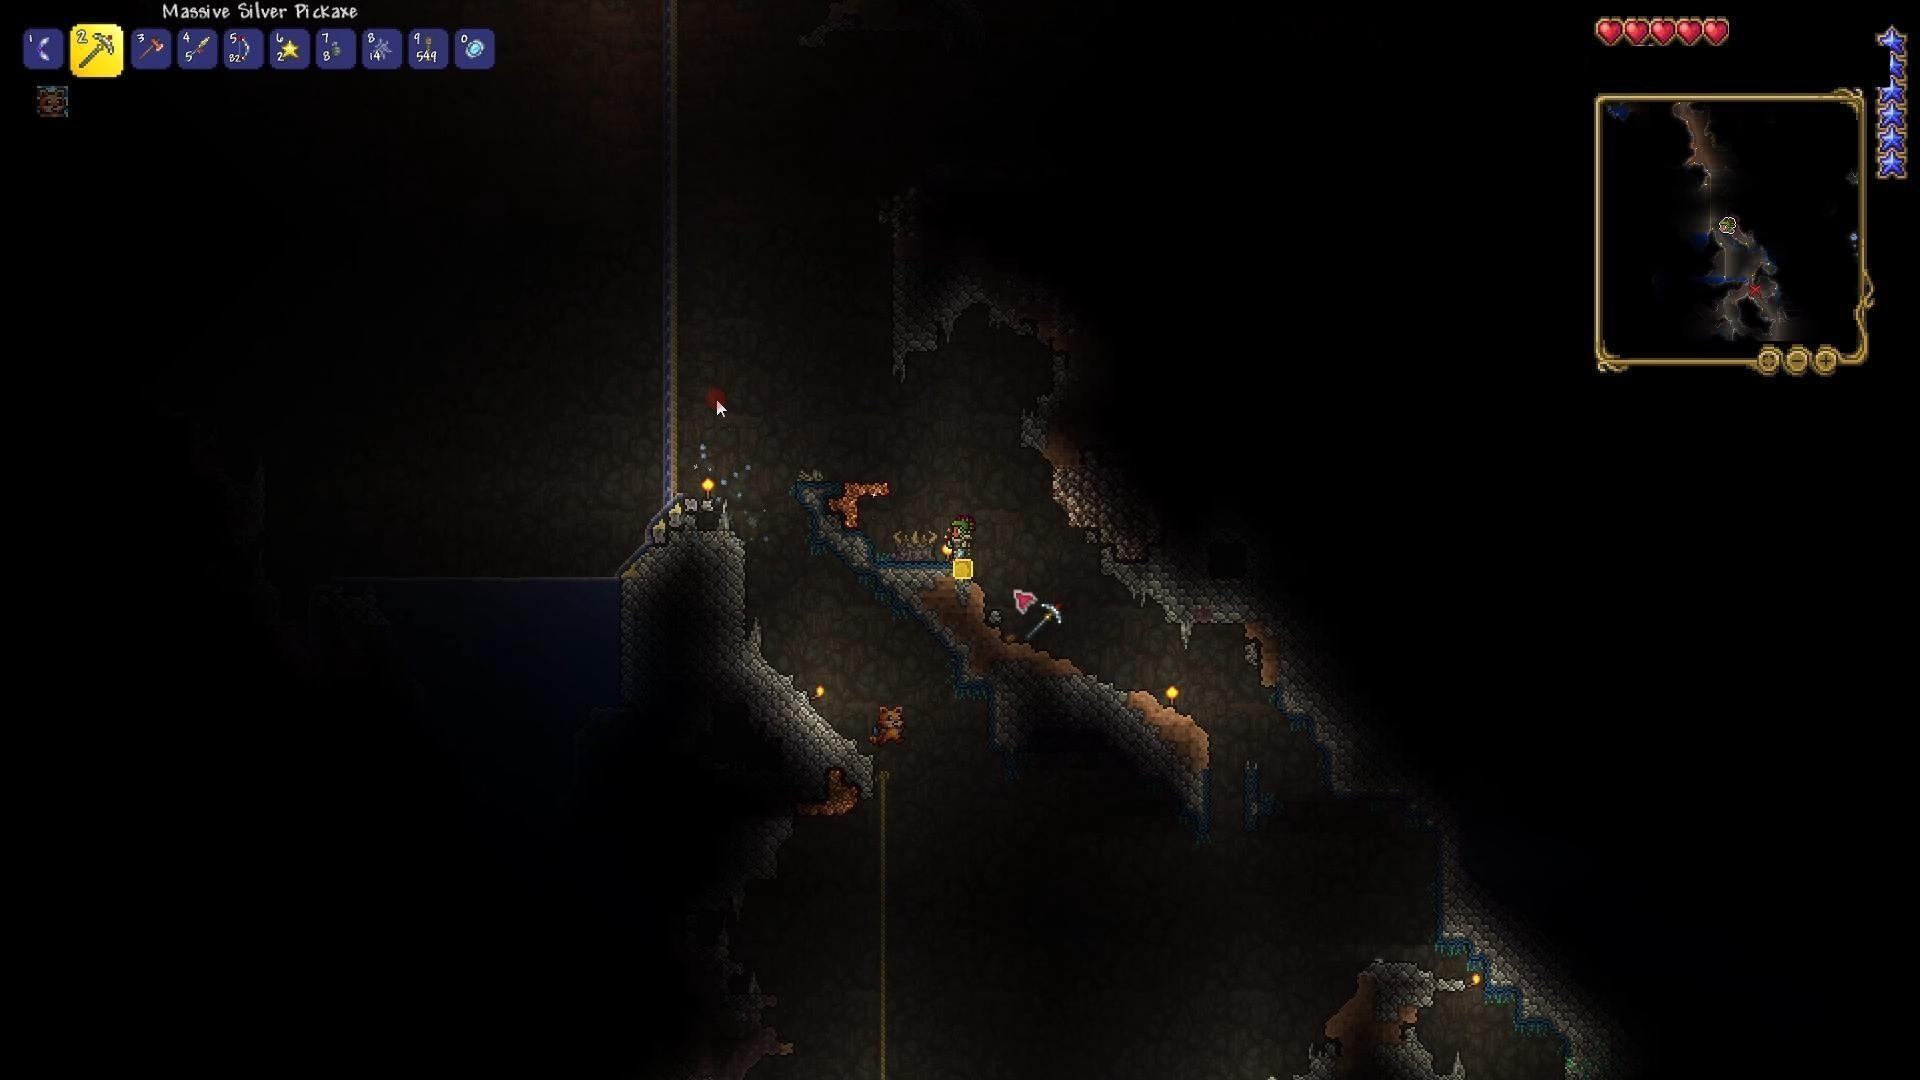heart: (1702, 17, 1733, 51), (1593, 16, 1626, 46), (1676, 15, 1704, 50), (1650, 16, 1676, 49), (1625, 15, 1651, 44)
stone: (612, 538, 746, 651), (745, 671, 870, 783), (1429, 827, 1523, 975), (880, 251, 986, 372), (984, 680, 1124, 758), (1104, 563, 1246, 638), (1275, 673, 1360, 775), (1522, 973, 1611, 1051)
